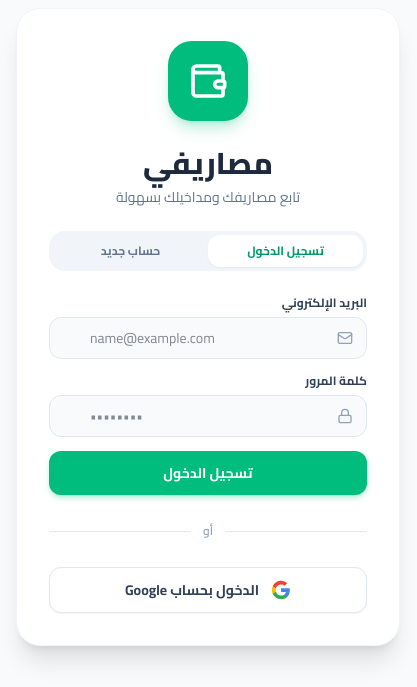
Scenario: LoginPage Component › validates name, email, and password length in signup mode
This screenshot has width=417, height=687.
# Switch to signup
Step 1. Click the tab "حساب جديد" → (130, 251), box [53,235,208,267]
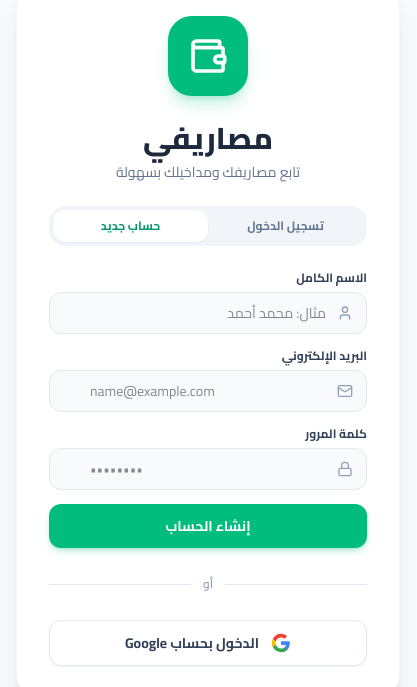
# Empty name
Step 2. Click the button "إنشاء الحساب" → (208, 526), box [49,504,367,548]
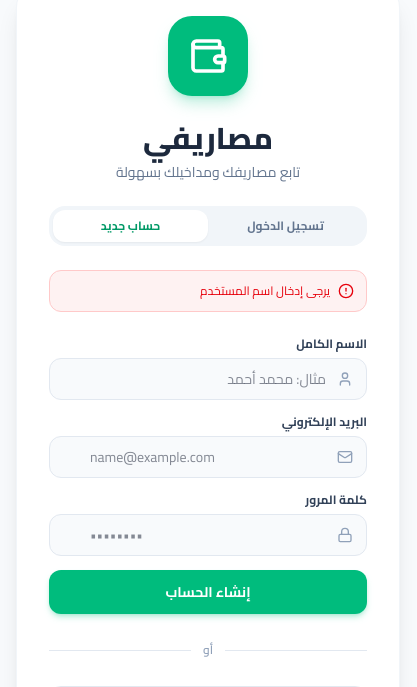
Check: the text "يرجى إدخال اسم المستخدم" is shown, box [200,283,330,299]
# Fill name, empty email
Step 3. Type "محمد أحمد" into the field labelled "الاسم الكامل" → (208, 379), box [49,358,367,400]
Step 4. Click the button "إنشاء الحساب" → (208, 592), box [49,570,367,614]
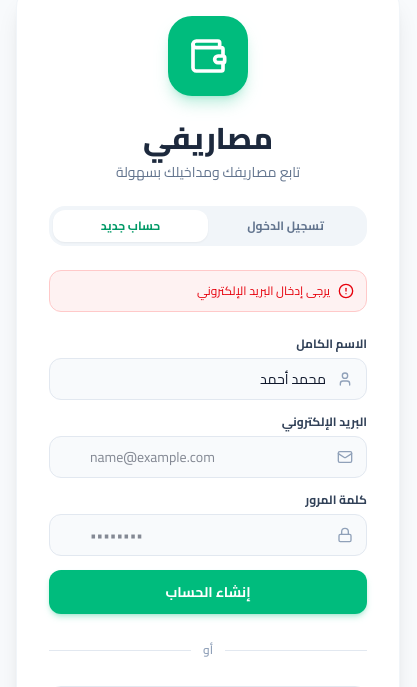
Check: the text "يرجى إدخال البريد الإلكتروني" is shown, box [197,283,330,299]
Step 5. Type "test@example.com" into the field labelled "البريد الإلكتروني" → (208, 457), box [49,436,367,478]
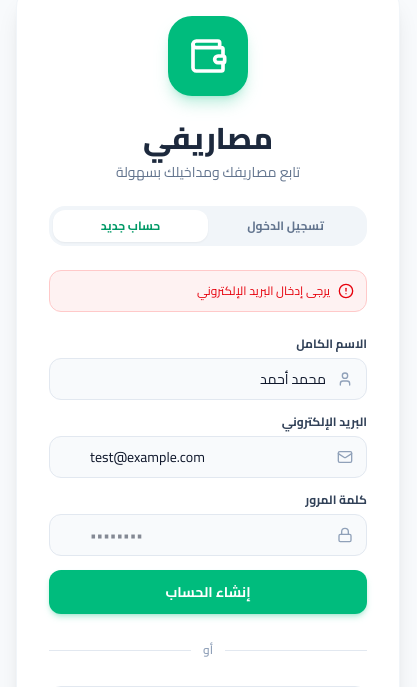
Step 6. Type "123" into the password field labelled "كلمة المرور" → (208, 535), box [49,514,367,556]
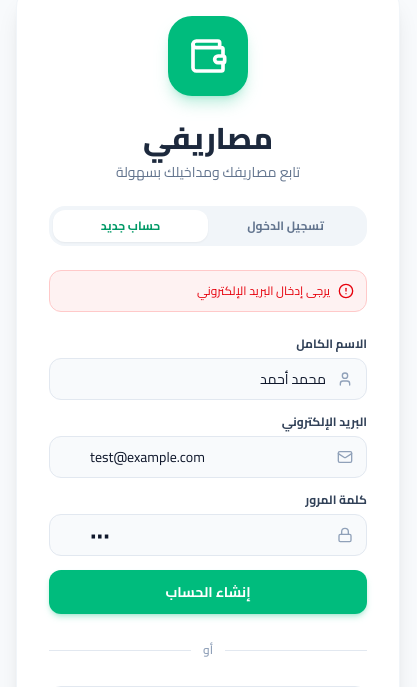
Step 7. Click the button "إنشاء الحساب" → (208, 592), box [49,570,367,614]
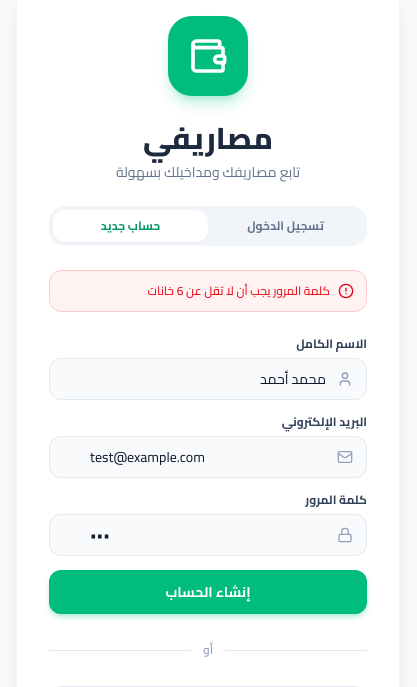
Check: the text "كلمة المرور يجب أن لا تقل عن 6 خانات" is shown, box [148,283,330,299]
